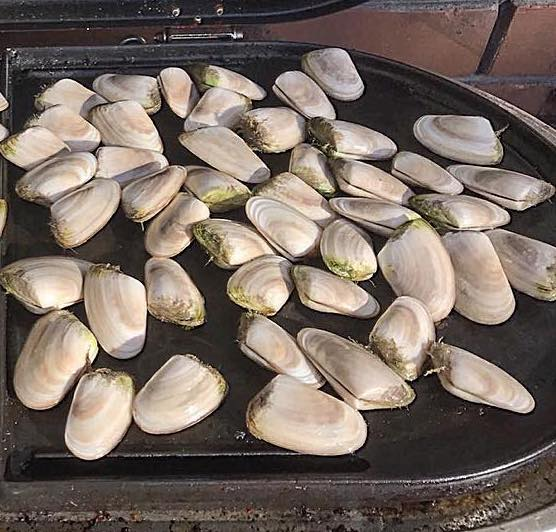tuatua: (293, 323, 416, 411), (243, 373, 368, 456), (429, 335, 536, 417), (11, 308, 95, 412), (375, 217, 457, 323), (131, 352, 229, 435), (443, 226, 518, 328), (61, 367, 138, 465), (234, 310, 326, 389), (81, 264, 150, 363), (1, 254, 97, 316), (445, 157, 556, 210), (368, 294, 434, 383), (482, 224, 556, 301), (176, 124, 270, 183), (290, 259, 380, 319), (48, 175, 122, 247), (141, 253, 209, 331), (244, 190, 323, 257), (410, 112, 506, 167), (11, 150, 99, 208), (329, 150, 415, 207), (86, 96, 169, 154), (306, 115, 400, 165), (328, 191, 430, 237), (185, 213, 270, 268), (408, 189, 514, 232), (253, 170, 336, 224), (224, 253, 294, 317), (320, 212, 381, 284), (295, 46, 369, 105), (147, 191, 209, 258), (23, 102, 102, 153), (122, 163, 186, 223), (270, 68, 339, 122), (178, 163, 250, 212), (390, 150, 464, 196), (192, 60, 270, 103), (180, 85, 252, 131), (239, 103, 304, 153), (92, 144, 171, 185), (91, 71, 161, 114), (286, 139, 337, 198), (2, 124, 63, 171), (157, 65, 200, 119)
